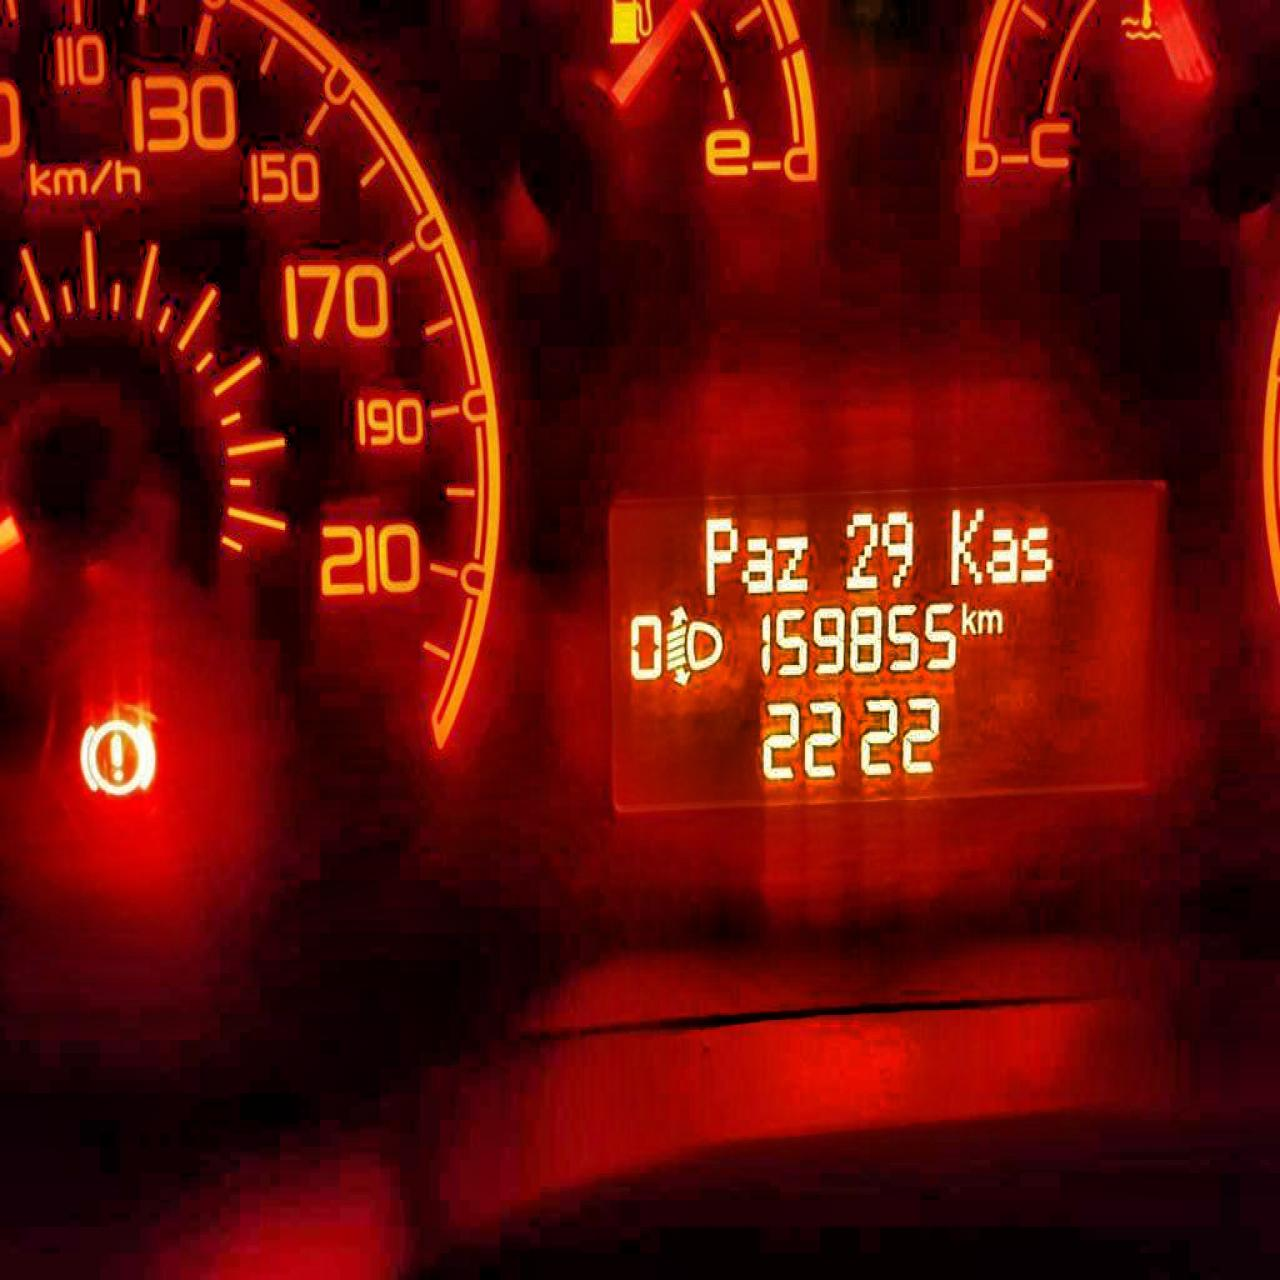0: (628, 611, 662, 682)
1: (760, 607, 770, 679)
2: (760, 699, 799, 779), (801, 699, 840, 778), (859, 695, 897, 774), (903, 694, 939, 774), (845, 509, 879, 587)
5: (922, 601, 955, 670), (774, 607, 806, 675), (887, 604, 918, 675)
8: (849, 604, 883, 675)
9: (881, 509, 914, 587), (811, 601, 843, 676)
X: (952, 499, 983, 588), (701, 513, 734, 597), (775, 529, 810, 593), (740, 530, 772, 595), (1020, 522, 1053, 586), (987, 525, 1017, 584), (978, 606, 1002, 636), (960, 598, 975, 636)
odometer: (595, 478, 1176, 846)
